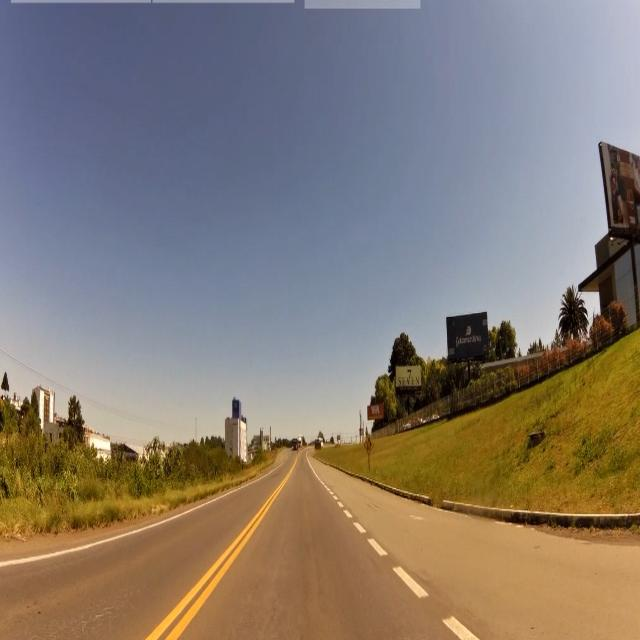A-42a: (364, 434, 374, 457)
